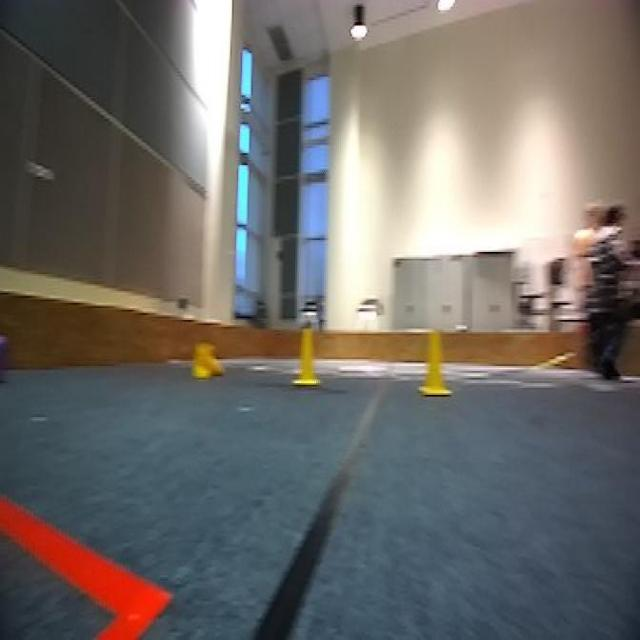frc_cone: (416, 329, 455, 400), (290, 323, 326, 388), (190, 342, 225, 380)
